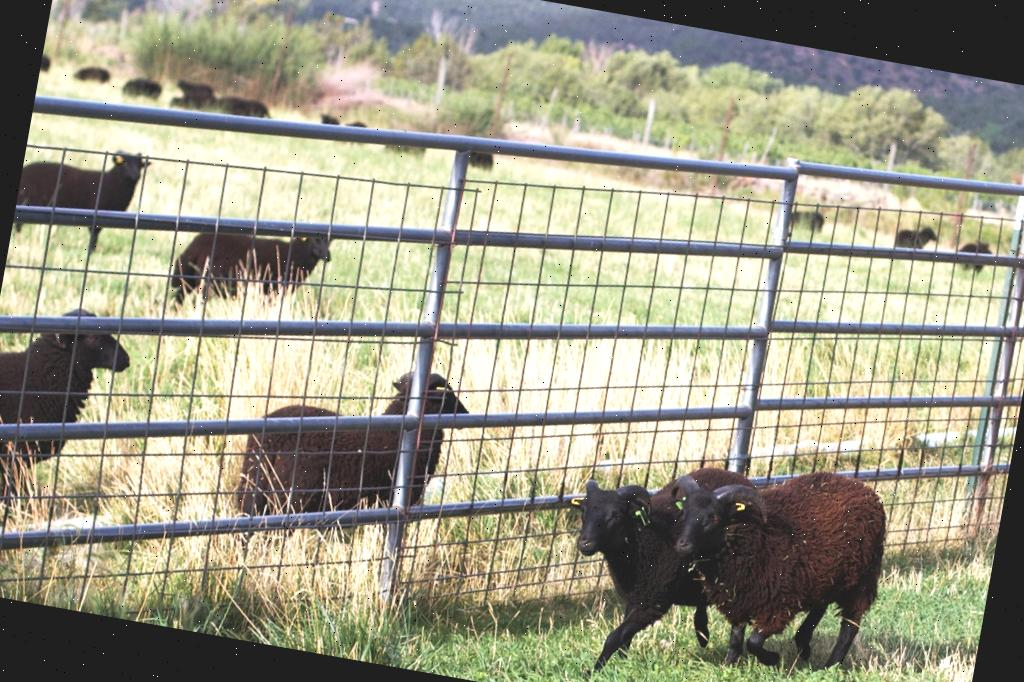Sheep: (226, 341, 476, 580), (651, 447, 905, 682), (530, 450, 782, 682), (0, 292, 141, 524), (166, 209, 334, 332), (10, 129, 152, 256), (894, 219, 940, 255)
